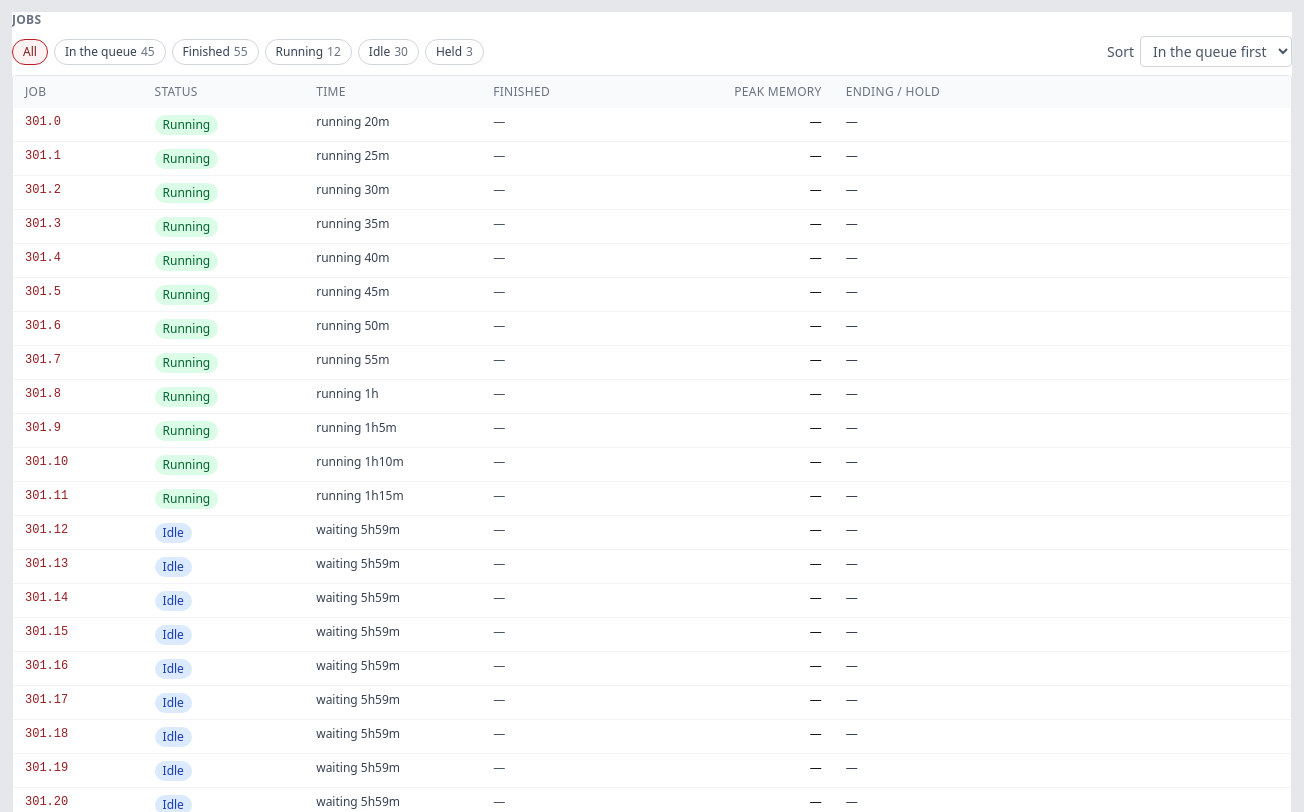
Test case: JobsSection › filters by the chips and sorts by the select
Click the button "Finished55".
click(215, 52)  # box [172, 38, 258, 64]
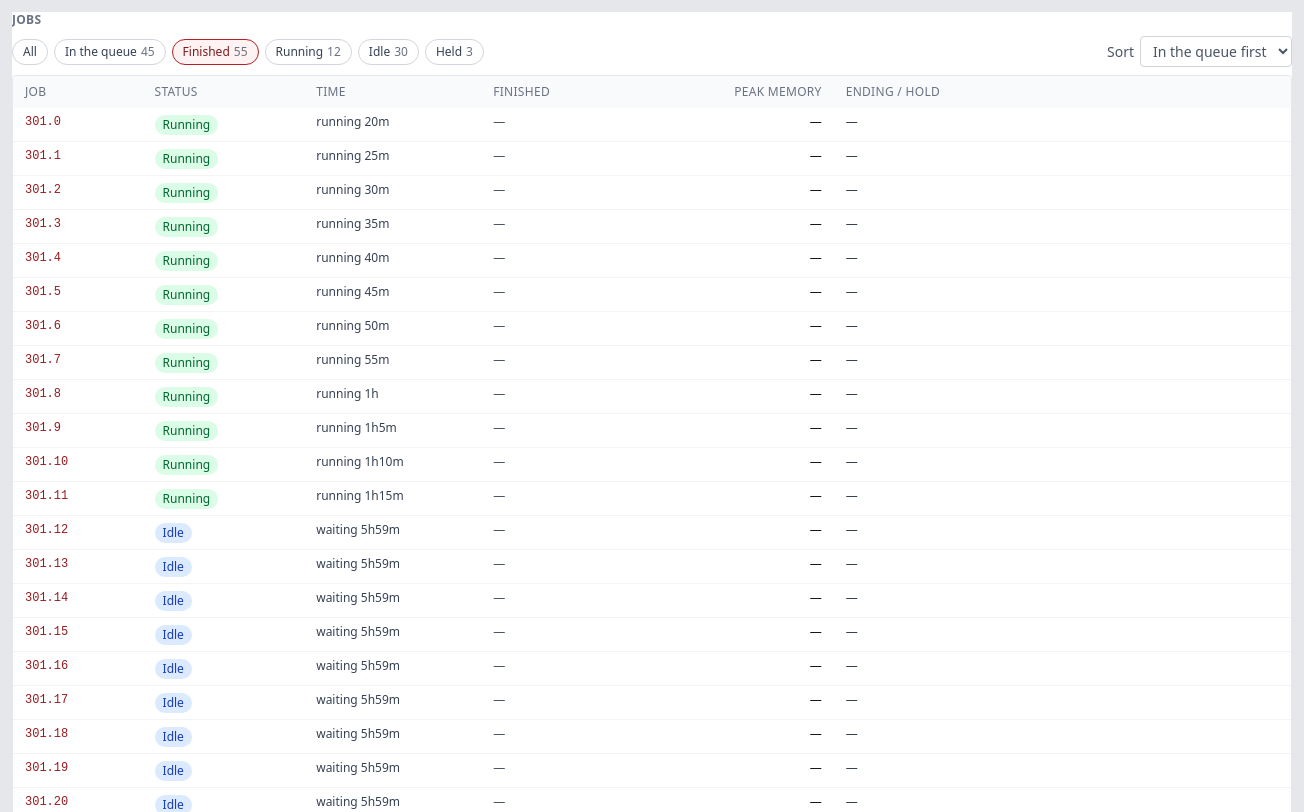
Check: the button "Finished55" is pressed, box [172, 38, 258, 64]
Select "Run time" in the dropdown labelled "Sort" at x=1216, y=52, box [1140, 36, 1292, 67]
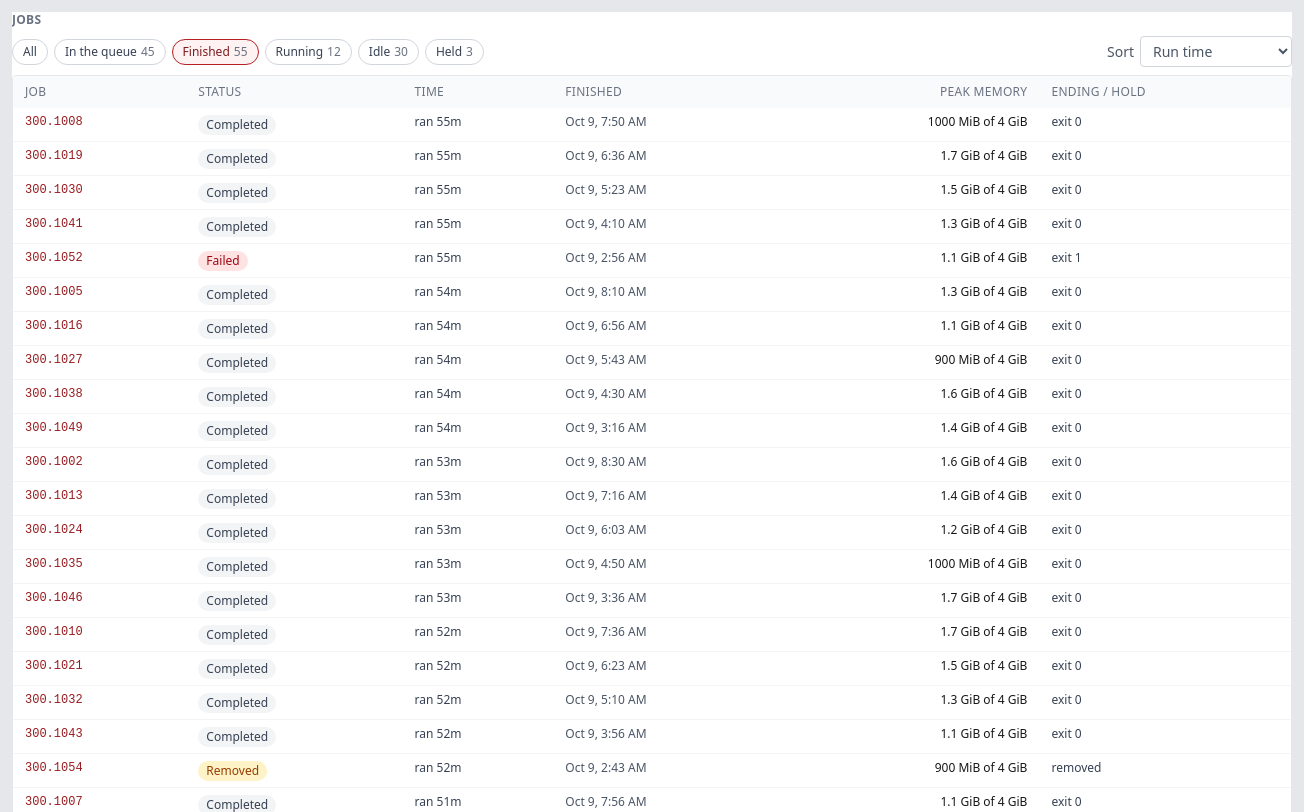
Check: the row with test id "batch-job-row" shows "ran 55m", box [415, 113, 462, 130]
